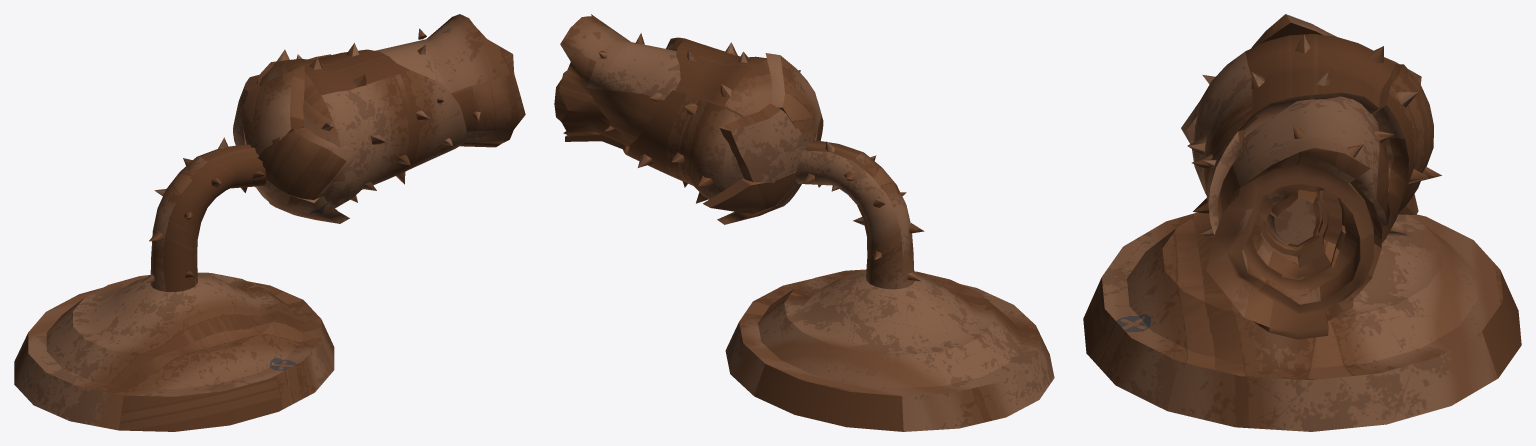
Rendered from cañon_pitaya.fbx.
The picture shows the model from 3 angles, left to right: view 1: azimuth 30°, elevation 25°; view 2: azimuth 150°, elevation 25°; view 3: azimuth 270°, elevation 25°; orthographic projection. The views are drawn at different scales.
Parts seen in each view (by area): view 1: Cylinder003; view 2: Cylinder003; view 3: Cylinder003.
Part boxes in pixels (bbox=[...]): Cylinder003: bbox=[14, 14, 525, 431]; Cylinder003: bbox=[554, 14, 1054, 431]; Cylinder003: bbox=[1083, 14, 1521, 431].
Size of the model in its own units: 387 by 381 by 681.
